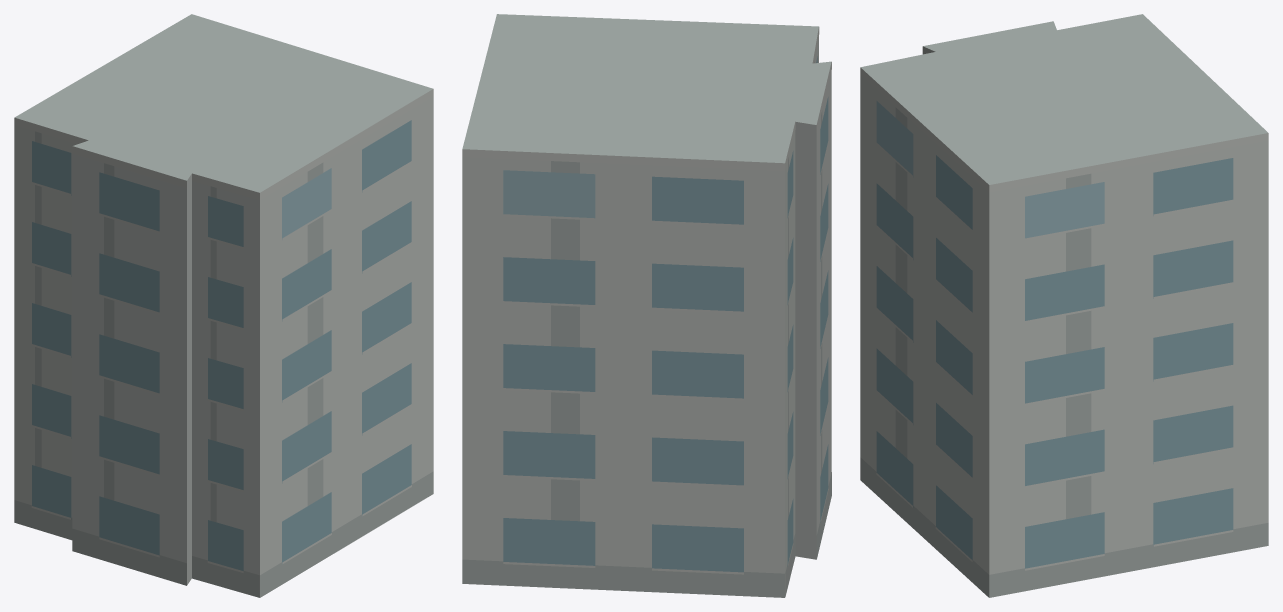
Rendered from survey-upis-32536148.glb.
3 views of the same model, side by side, from view 1: azimuth 30°, elevation 25°; view 2: azimuth 150°, elevation 25°; view 3: azimuth 270°, elevation 25° (orthographic). The views are drawn at different scales.
Parts seen in each view (by area): view 1: survey-upis-32536148.tmp; view 2: survey-upis-32536148.tmp; view 3: survey-upis-32536148.tmp.
Part boxes in pixels (box(x1,y1,x2,y2)): survey-upis-32536148.tmp: box(14, 14, 433, 597); survey-upis-32536148.tmp: box(462, 14, 831, 597); survey-upis-32536148.tmp: box(860, 14, 1268, 597).
Size of the model in its own units: 11.74 by 13.2 by 11.84.
